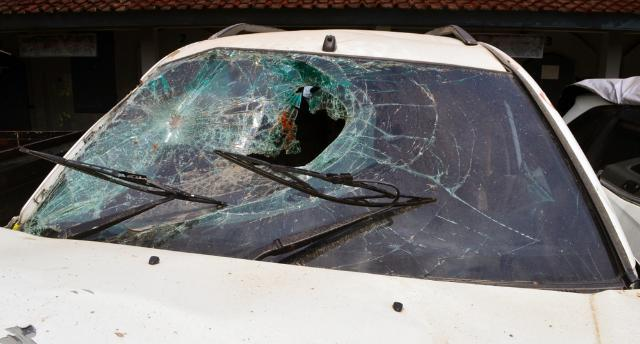glass shatter: (17, 49, 622, 285)
